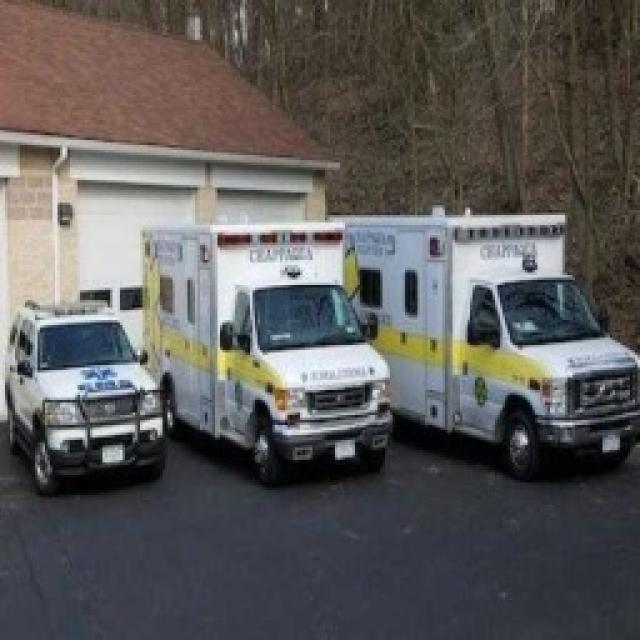emergency-vehicle: (340, 153, 640, 565), (118, 194, 466, 477)
